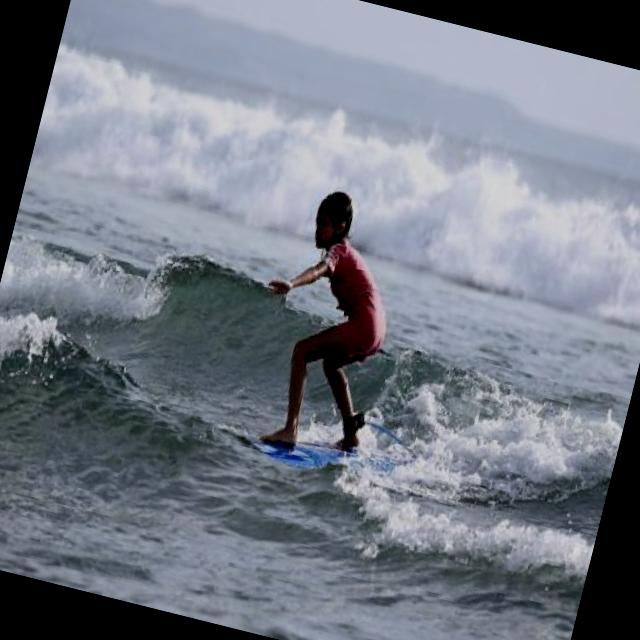Person: (227, 182, 418, 468)
